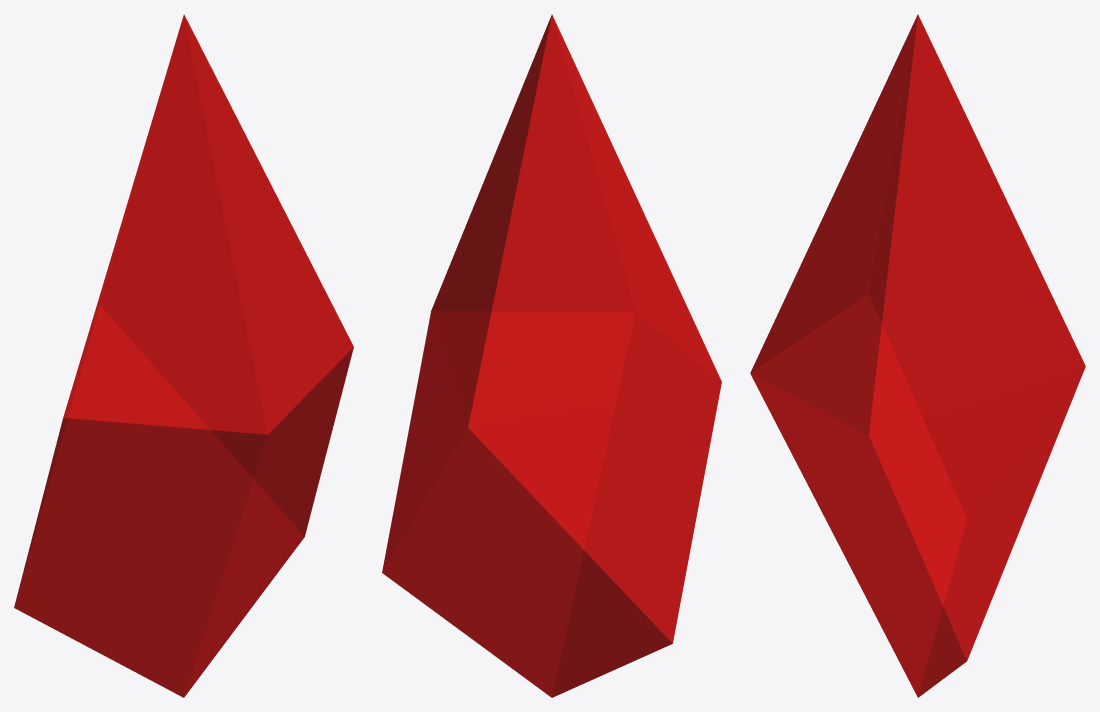
The model's file is LifeShard.glb.
3 renders of one model, left to right at view 1: azimuth 30°, elevation 25°; view 2: azimuth 150°, elevation 25°; view 3: azimuth 270°, elevation 25°, orthographic.
Parts seen in each view (by area): view 1: LifeShard; view 2: LifeShard; view 3: LifeShard.
Part boxes in pixels (<box>): LifeShard: <box>14,14,353,697</box>; LifeShard: <box>382,14,721,697</box>; LifeShard: <box>750,14,1085,697</box>.
Size of the model in its own units: 0.3085 by 0.6933 by 0.3084.
